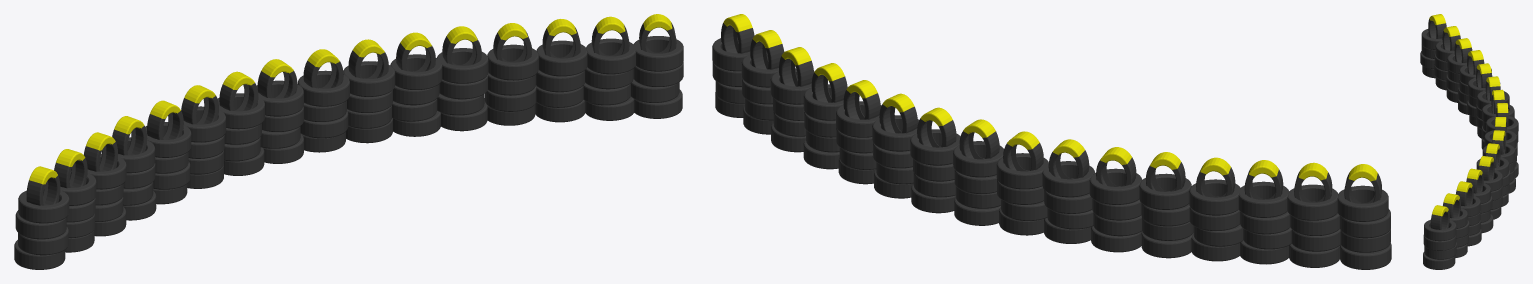
File: tire_barier_long_corner.fbx
3 renders of one model, left to right at view 1: azimuth 30°, elevation 25°; view 2: azimuth 150°, elevation 25°; view 3: azimuth 270°, elevation 25°, orthographic. The views are drawn at different scales.
Parts seen in each view (by area): view 1: Цилиндр.006; view 2: Цилиндр.006; view 3: Цилиндр.006.
Boxes of the visible parts, left/top/right/bottom form: Цилиндр.006: left=14, top=14, right=683, bottom=269; Цилиндр.006: left=712, top=14, right=1391, bottom=269; Цилиндр.006: left=1420, top=14, right=1518, bottom=269.
Size of the model in its own units: 991 by 129 by 200.
